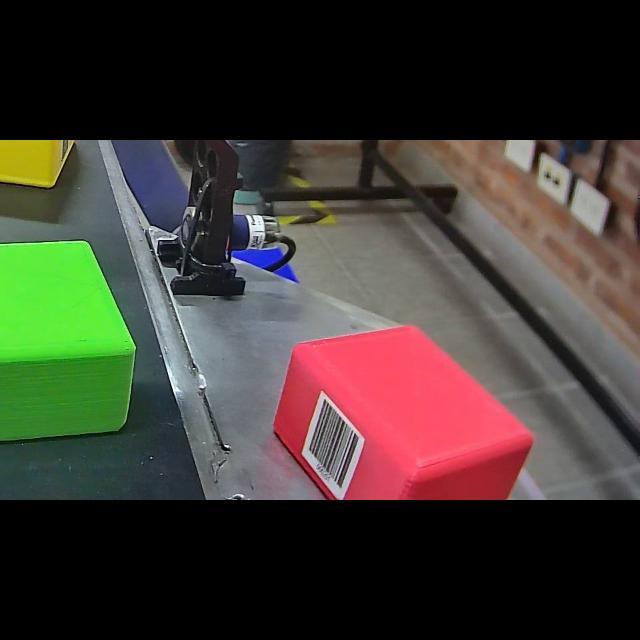greenBox: (0, 235, 150, 445)
redBox: (267, 318, 541, 500)
yellowBox: (0, 140, 86, 196)
